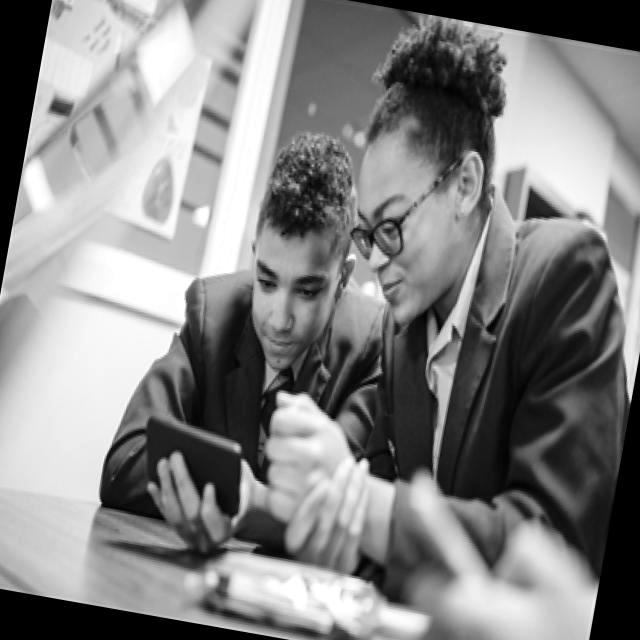phone: (395, 464, 511, 585), (134, 414, 253, 518)
